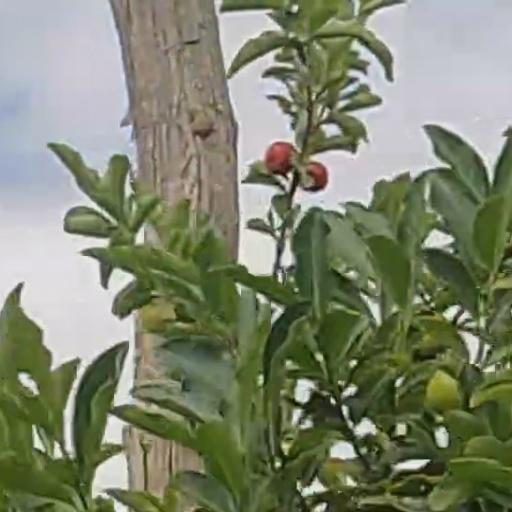acerola_verde: (428, 370, 460, 412)
acerola_vermelha: (301, 162, 328, 190), (266, 142, 289, 174)
